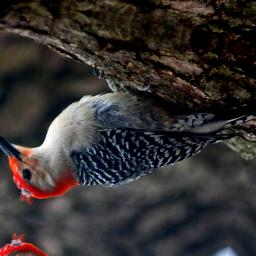Woodpecker: (0, 43, 256, 250)
